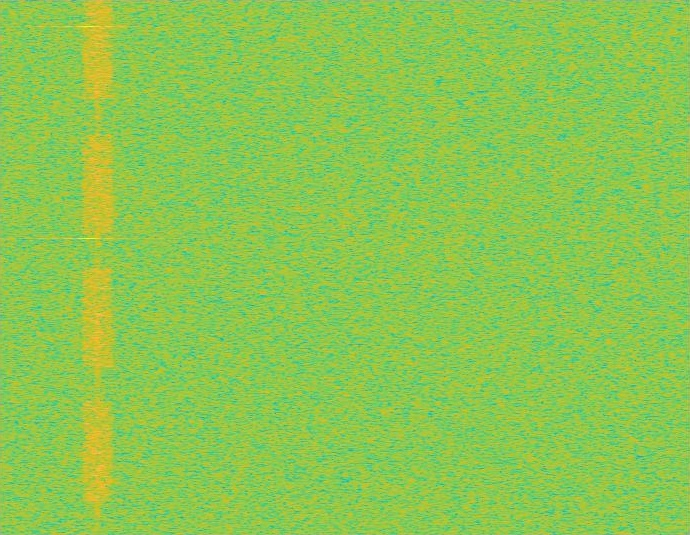5G: (81, 0, 115, 534)
DSSS: (96, 0, 100, 534)
Radar: (82, 0, 95, 534)
